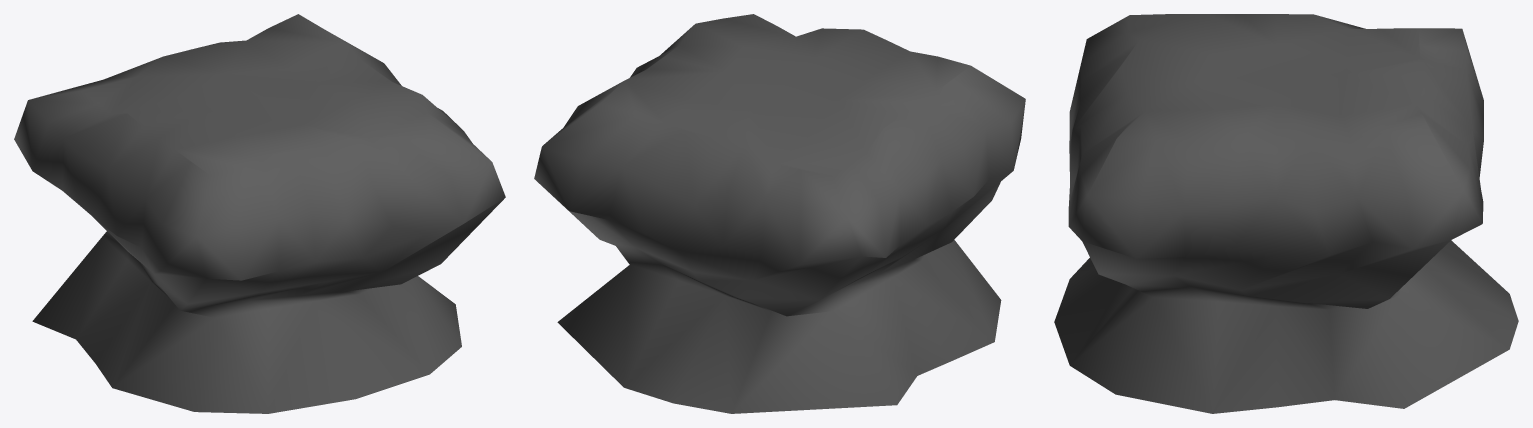
Rendered from Pedestal Outline.fbx.
3 renders of one model, left to right at view 1: azimuth 30°, elevation 25°; view 2: azimuth 150°, elevation 25°; view 3: azimuth 270°, elevation 25°, orthographic. The views are drawn at different scales.
Parts seen in each view (by area): view 1: pCube2; view 2: pCube2; view 3: pCube2.
Boxes of the visible parts, left/top/right/bottom form: pCube2: left=14, top=14, right=505, bottom=413; pCube2: left=534, top=14, right=1025, bottom=413; pCube2: left=1054, top=14, right=1518, bottom=413.
Size of the model in its own units: 1.97 by 1.28 by 2.1.
1 material, 1 textured.
